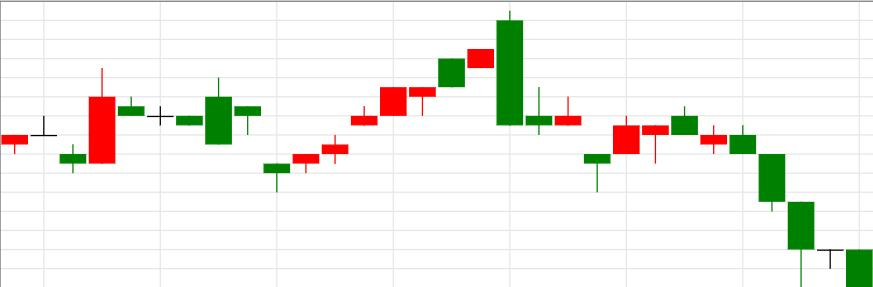bearish_engulfing_fall: (262, 10, 524, 191)
three_black_crows_fall: (583, 104, 815, 287)
